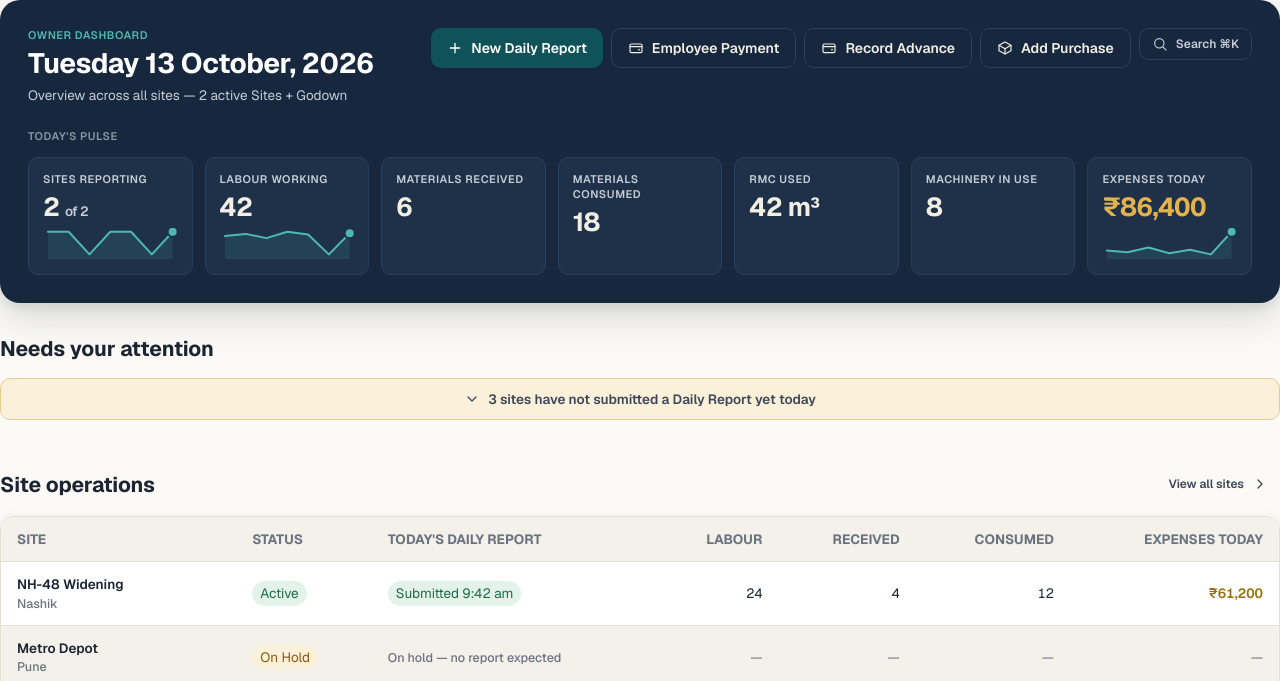
Test: DashboardPage › folds 3+ missing Sites behind a summary, closed by default — every Site is still named and reachable once expanded (FR-35)
Click the heading "3 sites have not submitted a Daily Report yet today".
click(640, 399)  # box [464,390,816,408]
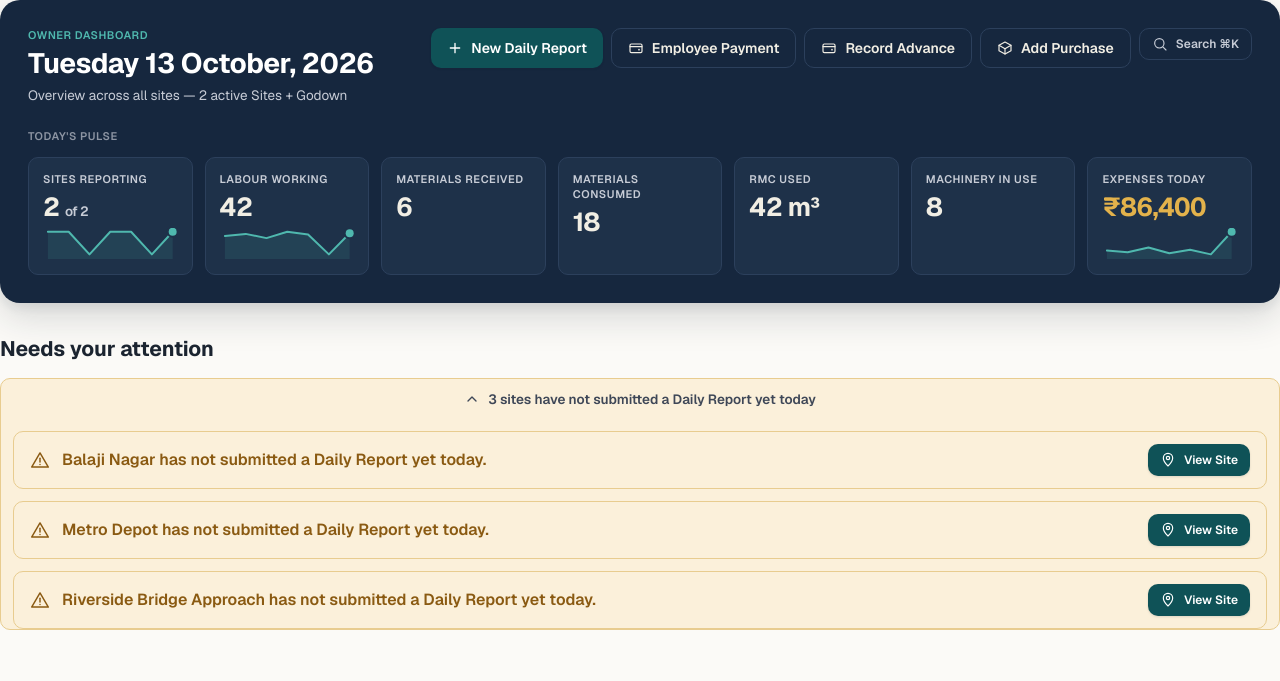
Now the text "Balaji Nagar has not submitted a Daily Report yet today." is shown, box [62,449,486,470]
Now the text "Metro Depot has not submitted a Daily Report yet today." is shown, box [62,519,489,540]
Now the text "Riverside Bridge Approach has not submitted a Daily Report yet today." is shown, box [62,589,596,610]
